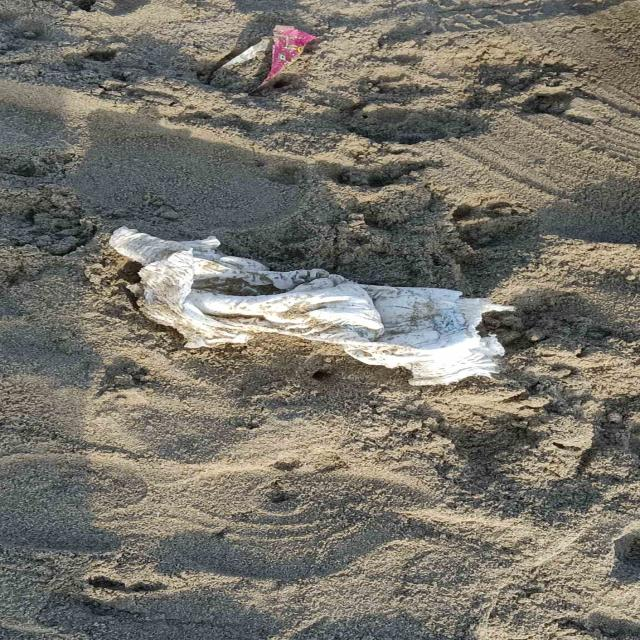vai_vun: (108, 227, 509, 386)
